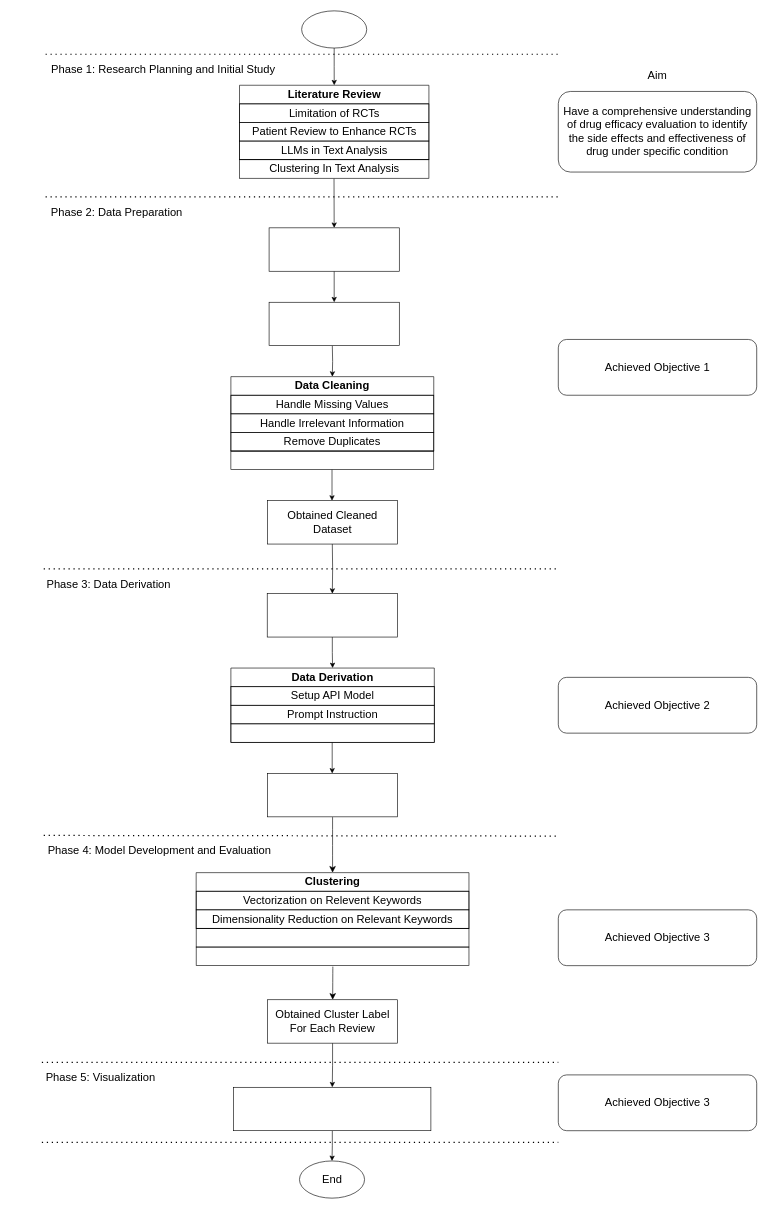
Some shapes in this 768 by 1209 pixel diagram are drawn without their labels. The shapes that lost their labels are listed below. From the top down, each one's centre as x and y in pixels, then its label:
the point at 334,29: Start
the point at 333,249: Drug Review Dataset
the point at 333,324: EDA
the point at 332,460: Lowercase Review
the point at 332,615: Retrieved Out "Review" Column
the point at 332,732: Retrive Relevant Keywords
the point at 332,795: Obtained Relevant Keywords
the point at 332,937: DBSCAN on Relevent Keywords
the point at 332,956: Evaluate by Silhouette Coefficient & DBI
the point at 332,1109: Build Dashboard to Visualize the Clustering Outcomes
